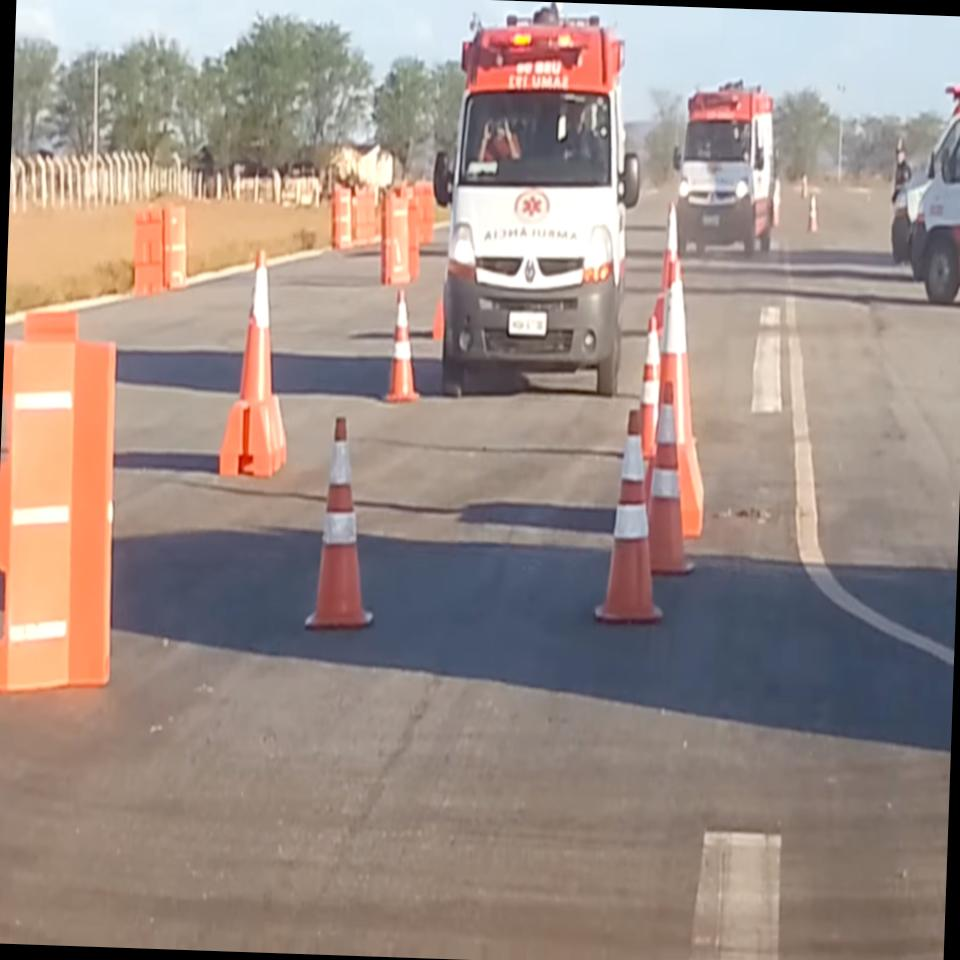bombeiro: (424, 0, 652, 404), (667, 73, 785, 265)
